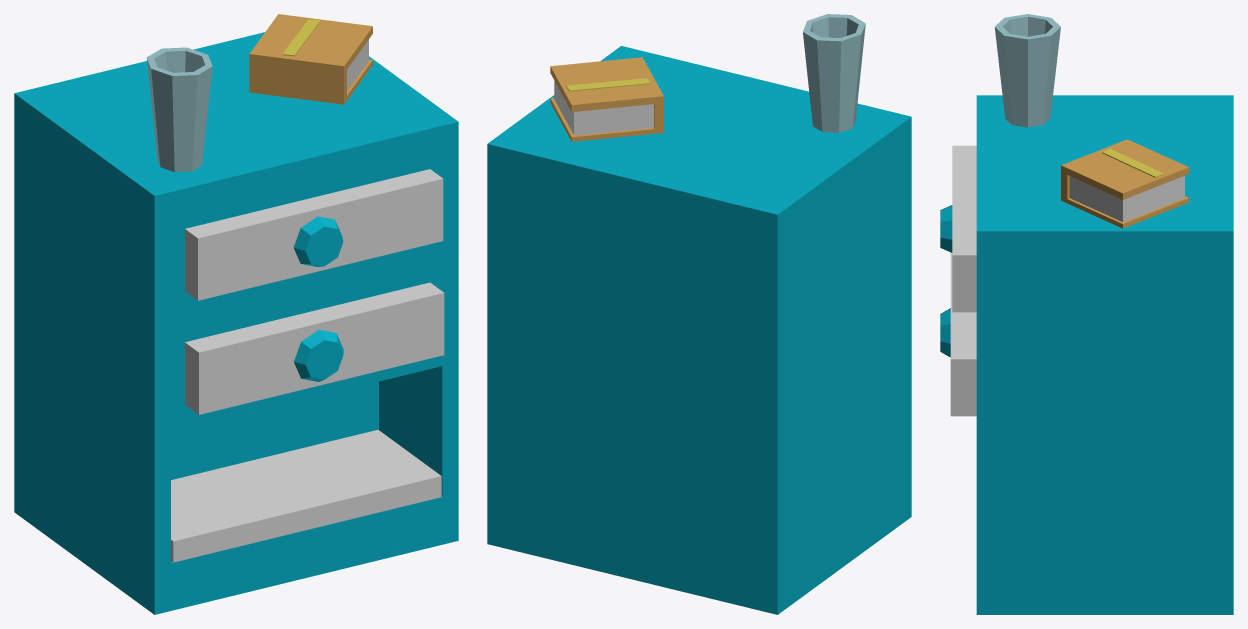
Rendered from Incredible Bombul.glb.
3 renders of one model, left to right at view 1: azimuth 30°, elevation 25°; view 2: azimuth 150°, elevation 25°; view 3: azimuth 270°, elevation 25°, orthographic. The views are drawn at different scales.
Parts seen in each view (by area): view 1: Mesh_Mesh_head_geo.001_lambert2SG.001; view 2: Mesh_Mesh_head_geo.001_lambert2SG.001; view 3: Mesh_Mesh_head_geo.001_lambert2SG.001.
Part boxes in pixels (x1,y1,x2,y2): Mesh_Mesh_head_geo.001_lambert2SG.001: (14,14,458,614); Mesh_Mesh_head_geo.001_lambert2SG.001: (487,14,911,614); Mesh_Mesh_head_geo.001_lambert2SG.001: (940,14,1233,614).
Bounding box in the file's own units: 53.3 × 87.06 × 48.61.
